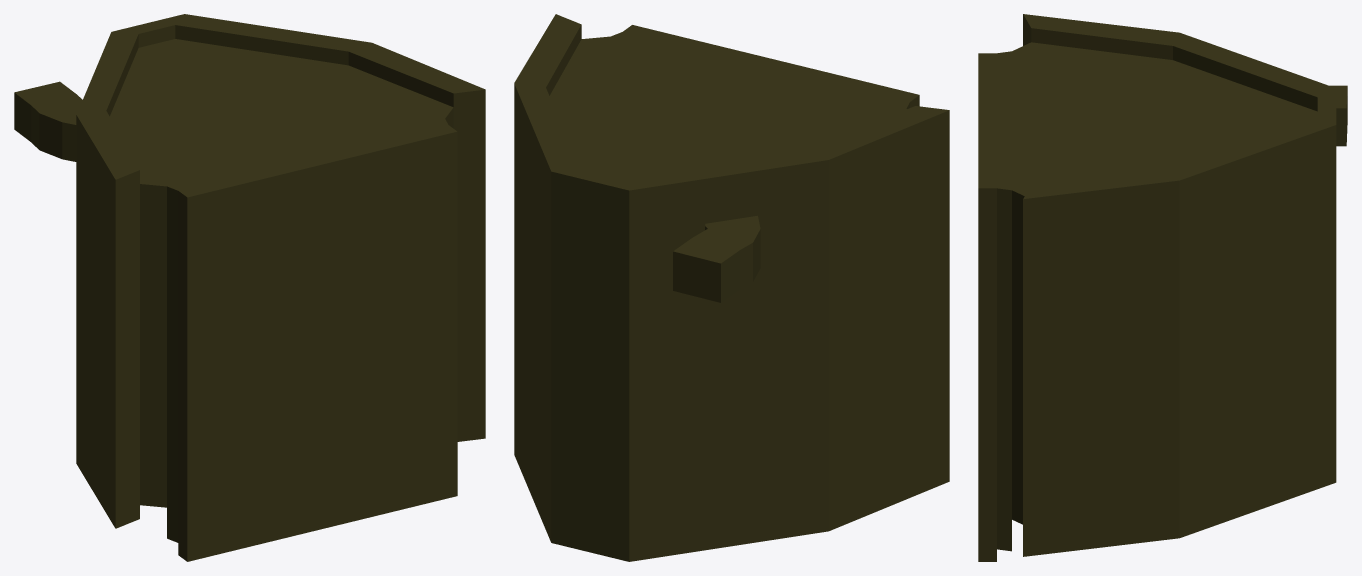
The model's file is HouseTypeA 3.fbx.
3 renders of one model, left to right at view 1: azimuth 30°, elevation 25°; view 2: azimuth 150°, elevation 25°; view 3: azimuth 270°, elevation 25°, orthographic. The views are drawn at different scales.
Visible parts, largest first — view 1: Cylinder; view 2: Cylinder; view 3: Cylinder.
Boxes of the visible parts, left/top/right/bottom form: Cylinder: left=14, top=14, right=485, bottom=561; Cylinder: left=514, top=14, right=949, bottom=561; Cylinder: left=978, top=14, right=1347, bottom=561.
Size of the model in its own units: 116 by 114 by 98.04.
